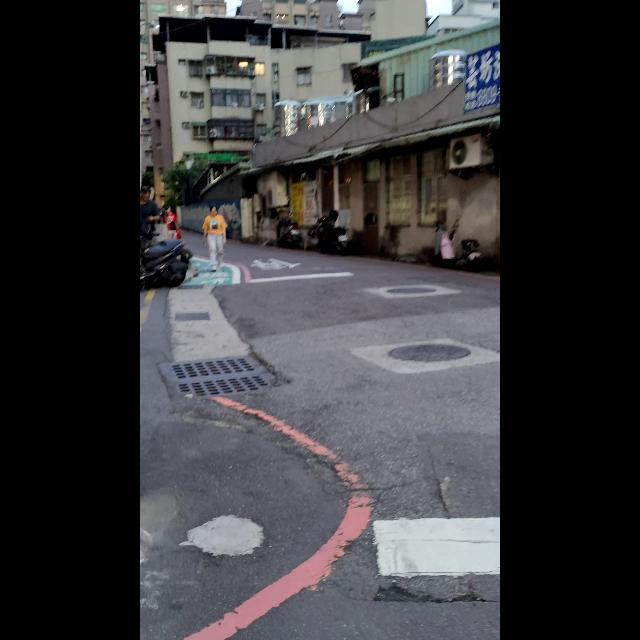sidewalk: (374, 517, 499, 577)
